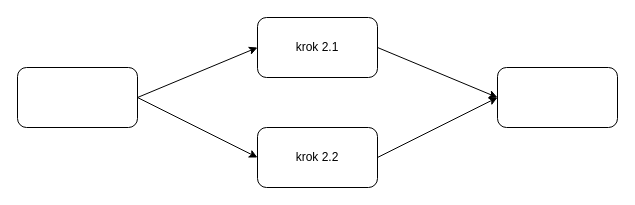
Image size: 635x205. Some labels were removed from this diagram. The shapes that lost their labels are listed below. From the top down, each one's centre as x and y in pixels, then its label:
At point (77, 97): "krok 1".
At point (557, 97): "krok 3".
